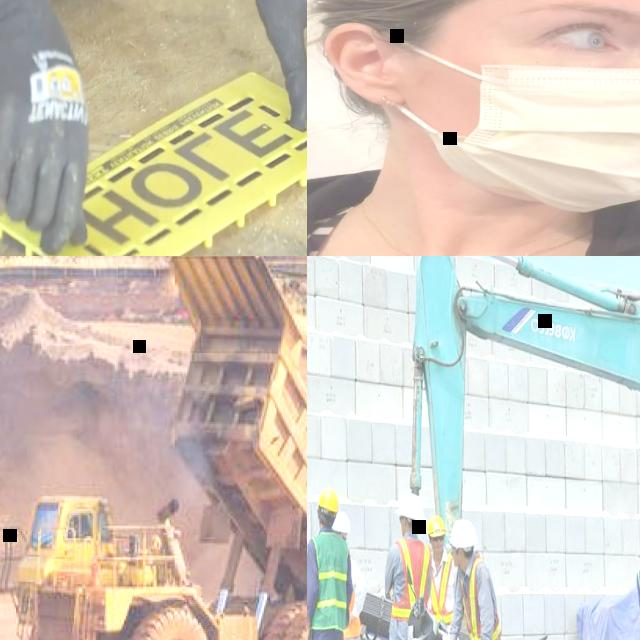Hardhat: (398, 492, 426, 520), (450, 518, 478, 545), (426, 515, 446, 538), (318, 489, 338, 511), (332, 513, 349, 535)
Mask: (378, 24, 640, 212)
NO-Mask: (452, 554, 464, 567), (434, 541, 446, 553), (399, 525, 407, 535)
NO-Safety Vest: (307, 202, 640, 256)
Person: (307, 0, 640, 256), (0, 0, 307, 255), (382, 490, 432, 640), (448, 518, 505, 640), (307, 486, 352, 640), (327, 513, 367, 640), (427, 512, 458, 640), (619, 525, 640, 640)
Safety Vest: (459, 552, 503, 640), (388, 536, 431, 620), (312, 530, 348, 629), (426, 548, 456, 624), (343, 588, 362, 640)
vehicle: (0, 256, 307, 640), (407, 256, 640, 640)
